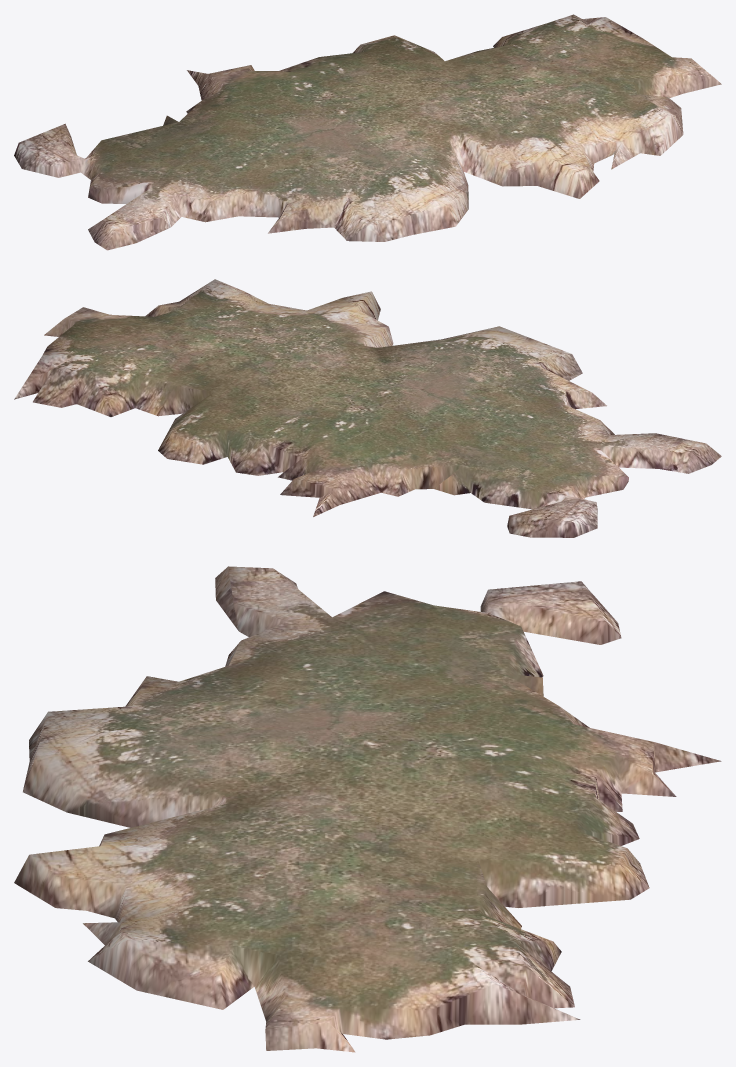
File: c3_ign_z19_mnt5_sim010_bhh.obj
The picture shows the model from 3 angles, top to bottom: view 1: azimuth 30°, elevation 25°; view 2: azimuth 150°, elevation 25°; view 3: azimuth 270°, elevation 25°; orthographic projection. The views are drawn at different scales.
Size of the model in its own units: 288 by 13.73 by 181.
